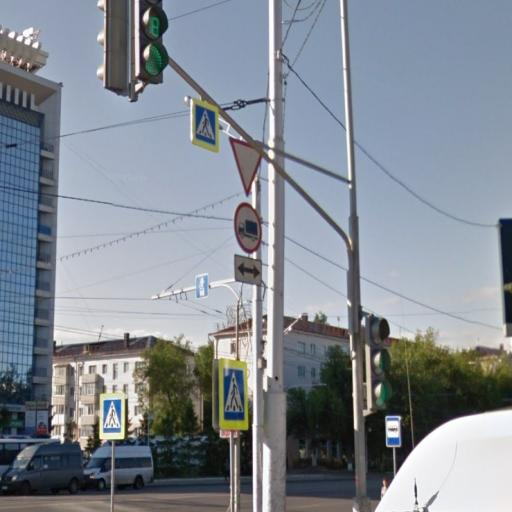traffic_sign: (215, 357, 253, 435), (229, 131, 265, 199), (190, 95, 224, 158), (232, 201, 266, 257), (97, 389, 131, 444), (384, 415, 402, 451)
